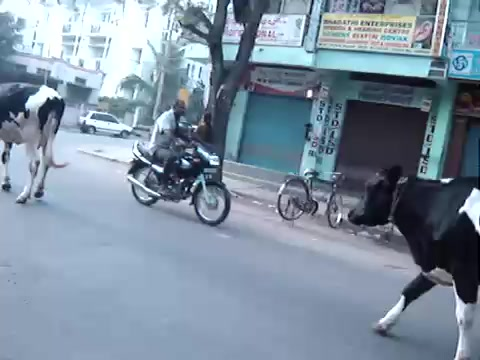cow: (348, 167, 480, 360)
